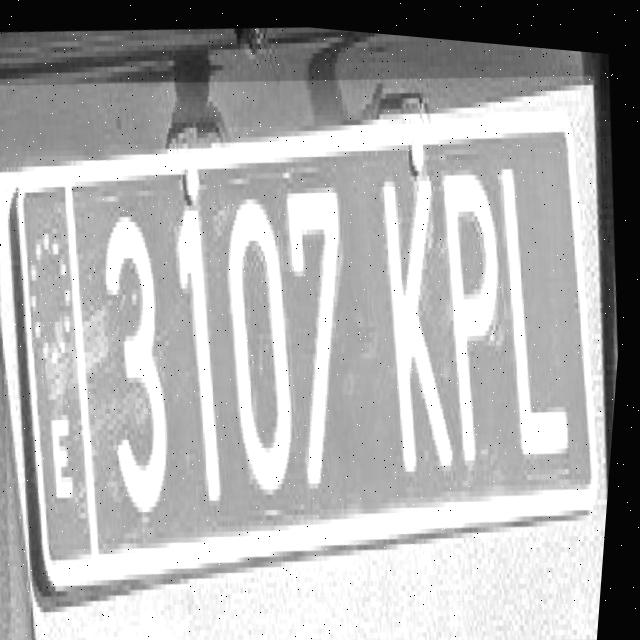LicensePlate: (0, 23, 639, 640)
